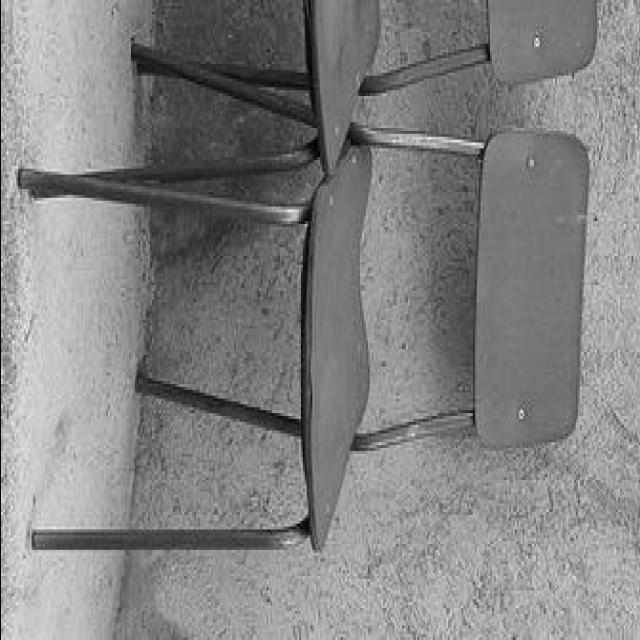chair: (29, 100, 616, 560), (31, 0, 603, 205)
